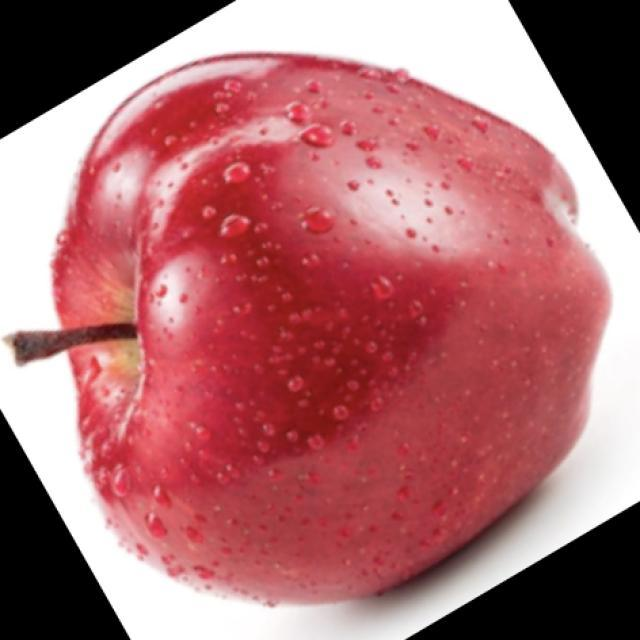Apple: (3, 49, 613, 608)
